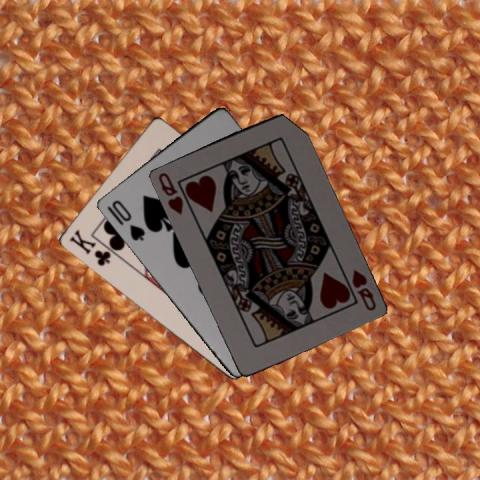10s: (108, 196, 147, 243)
Kc: (66, 227, 112, 267)
Qh: (154, 169, 184, 217), (348, 266, 377, 312)
